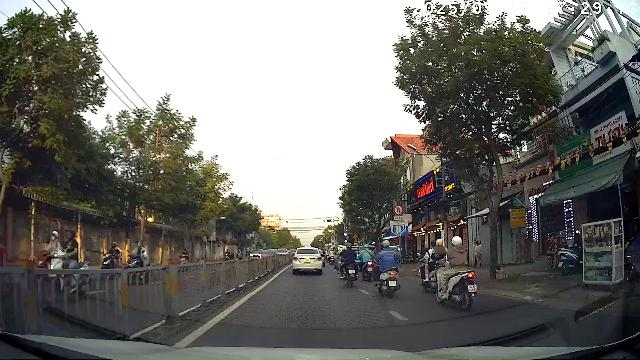124b-cam-oto-quay-dau-xe: (394, 205, 404, 215)
